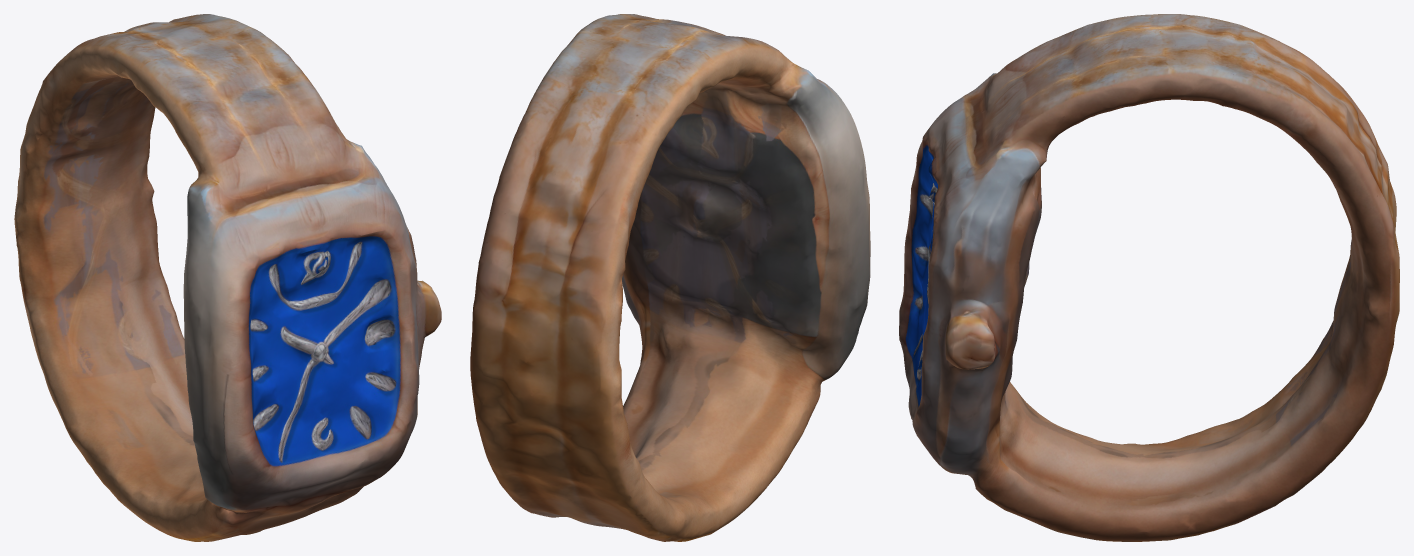
Rendered from Handwrist.fbx.
3 views of the same model, side by side, from view 1: azimuth 30°, elevation 25°; view 2: azimuth 150°, elevation 25°; view 3: azimuth 270°, elevation 25° (orthographic). The views are drawn at different scales.
Parts seen in each view (by area): view 1: Mesh_0; view 2: Mesh_0; view 3: Mesh_0.
Boxes of the visible parts, bbox=[...] form: Mesh_0: bbox=[14, 14, 441, 541]; Mesh_0: bbox=[470, 14, 870, 541]; Mesh_0: bbox=[899, 14, 1399, 541].
Size of the model in its own units: 69.14 by 120 by 114.
Materials: 1 (1 with a texture image).
